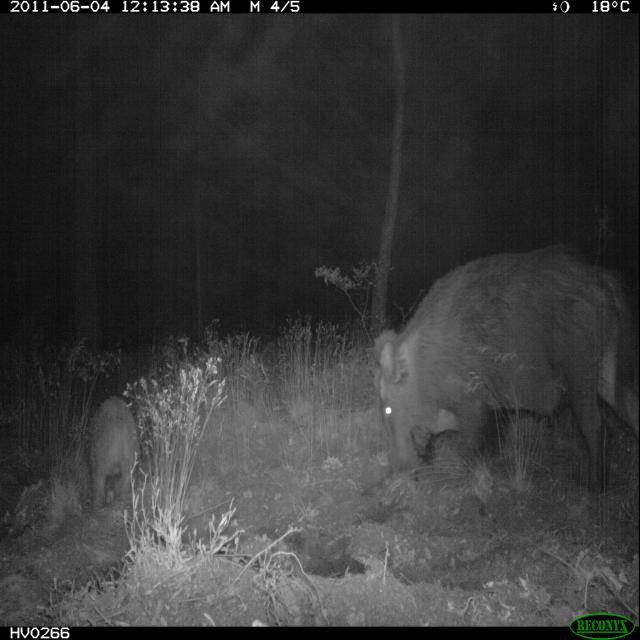boar: (355, 227, 634, 520), (61, 354, 167, 530)
